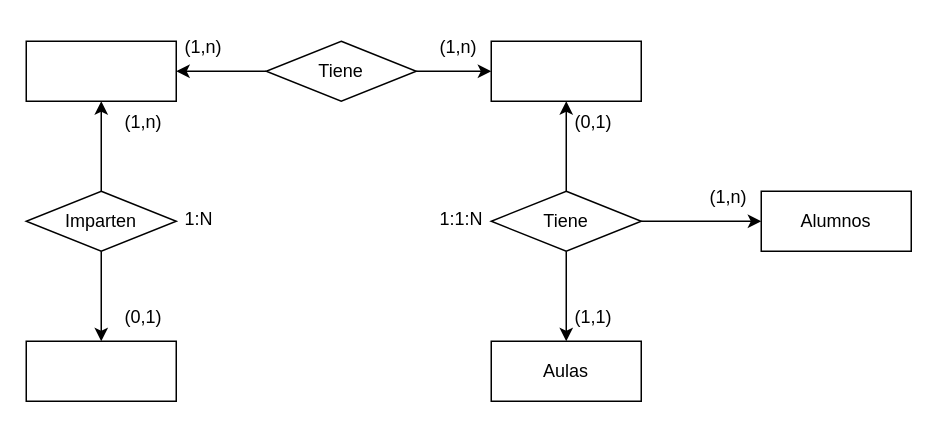
The diagram is 938 pixels wide and 428 high, and some of its shapes have lost their labels. The centre of each missing label's shape, as x and y in pixels:
"Asignaturas" belongs at (x=100, y=70).
"Cursos" belongs at (x=565, y=70).
"Profesores" belongs at (x=100, y=370).
